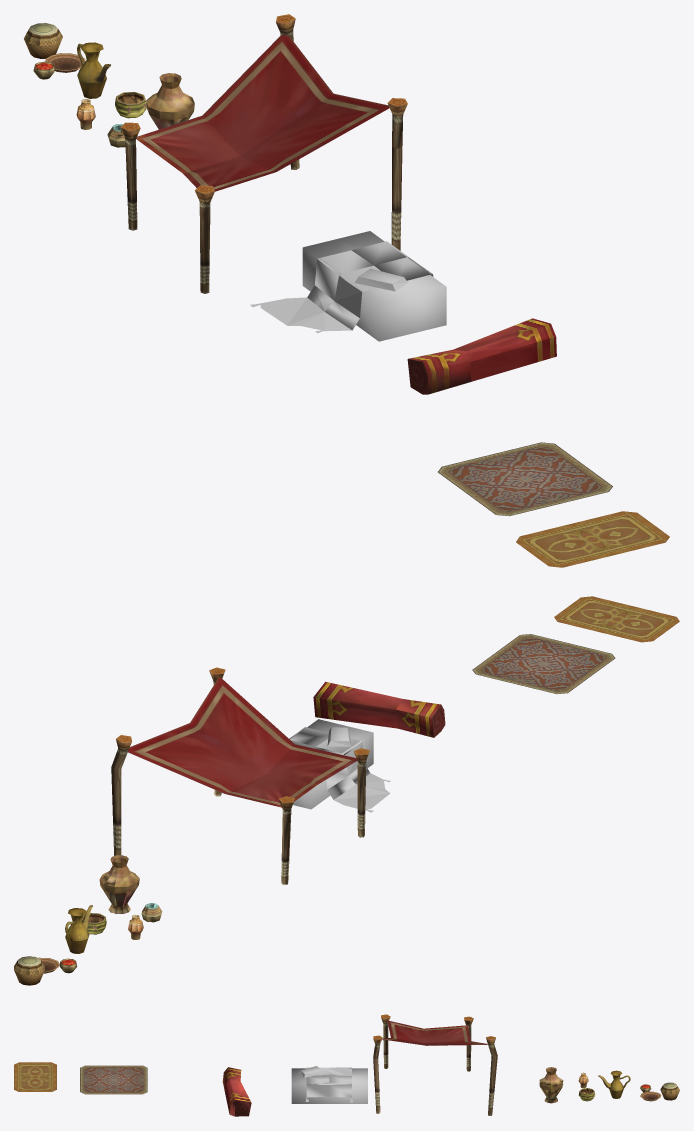
Rendered from ZC_zawu01.FBX.
The picture shows the model from 3 angles, top to bottom: view 1: azimuth 30°, elevation 25°; view 2: azimuth 150°, elevation 25°; view 3: azimuth 270°, elevation 25°; orthographic projection. The views are drawn at different scales.
Visible parts, largest first — view 1: ZC_zawu01_001, ZC_zawu01_002, ZC_zawu01_004, ZC_zawu01_003, ZC_zawu01_005, ZC_zawu01_011, ZC_zawu01_006, ZC_zawu01_007; view 2: ZC_zawu01_001, ZC_zawu01_004, ZC_zawu01_002, ZC_zawu01_003, ZC_zawu01_005, ZC_zawu01_006, ZC_zawu01_011, ZC_zawu01_007; view 3: ZC_zawu01_001, ZC_zawu01_002, ZC_zawu01_004, ZC_zawu01_005, ZC_zawu01_003, ZC_zawu01_006, ZC_zawu01_011, ZC_zawu01_007, ZC_zawu01_008.
Part boxes in pixels (box(x1,y1,x2,y2)): ZC_zawu01_001: box(120, 14, 407, 293); ZC_zawu01_002: box(250, 231, 446, 341); ZC_zawu01_004: box(438, 442, 612, 516); ZC_zawu01_003: box(407, 318, 556, 394); ZC_zawu01_005: box(516, 511, 669, 567); ZC_zawu01_011: box(24, 23, 85, 79); ZC_zawu01_006: box(146, 73, 194, 129); ZC_zawu01_007: box(77, 42, 110, 98); ZC_zawu01_001: box(111, 667, 369, 884); ZC_zawu01_004: box(472, 634, 615, 694); ZC_zawu01_002: box(289, 719, 390, 812); ZC_zawu01_003: box(313, 681, 445, 737); ZC_zawu01_005: box(554, 596, 679, 642); ZC_zawu01_006: box(99, 855, 139, 913); ZC_zawu01_011: box(14, 956, 77, 985); ZC_zawu01_007: box(65, 905, 92, 953); ZC_zawu01_001: box(373, 1014, 497, 1115); ZC_zawu01_002: box(291, 1066, 367, 1103); ZC_zawu01_004: box(80, 1065, 147, 1094); ZC_zawu01_005: box(14, 1062, 56, 1091); ZC_zawu01_003: box(222, 1067, 251, 1116); ZC_zawu01_006: box(539, 1067, 563, 1103); ZC_zawu01_011: box(640, 1082, 679, 1101); ZC_zawu01_007: box(598, 1070, 630, 1098); ZC_zawu01_008: box(578, 1088, 595, 1101).
Size of the model in its own units: 525 by 349 by 2746.
